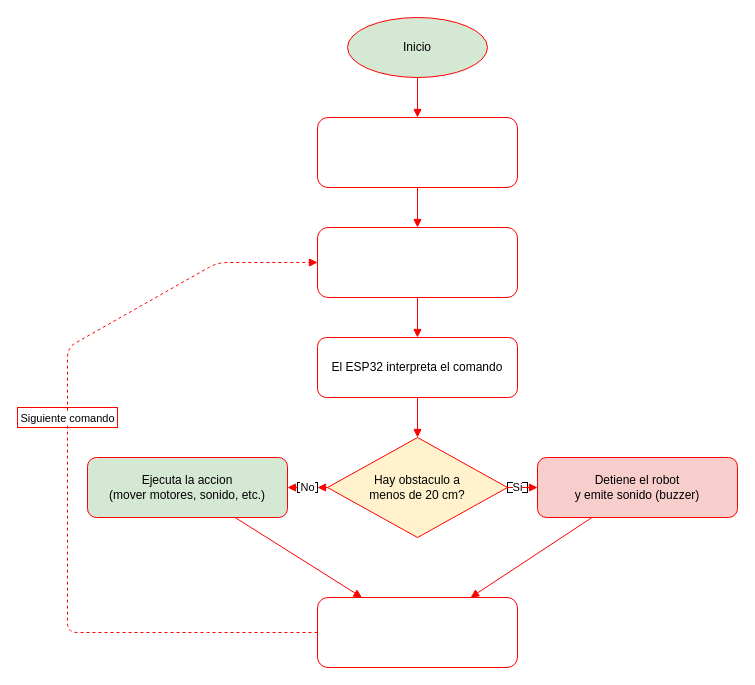
Image size: 755x685. Some labels were removed from this diagram. Here are the shapes that lost their labels. From the top down, the centre of each, then its label:
At pixel 417 152: "Usuario programa una secuencia de bloques".
At pixel 417 262: "La app envia el comando via Bluetooth al ESP32".
At pixel 417 632: "El robot queda listo para recibir el siguiente comando".
